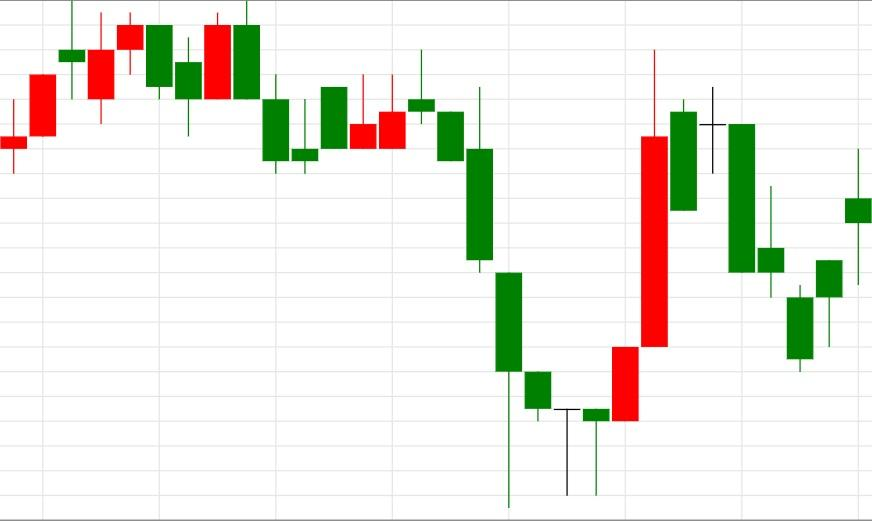bearish_engulfing_fall: (0, 0, 261, 172)
